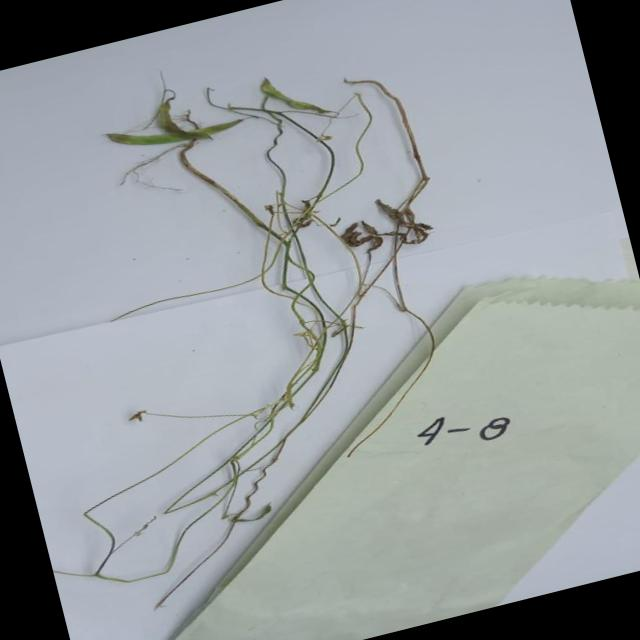Stem: (178, 146, 380, 442)
healty_leaves: (67, 39, 354, 188)
